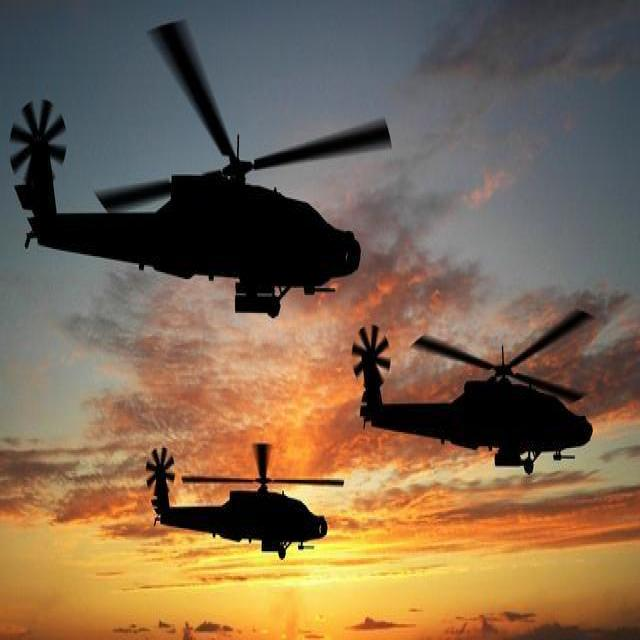MIL_HELO: (11, 13, 398, 321), (347, 309, 598, 479), (140, 426, 353, 564)
